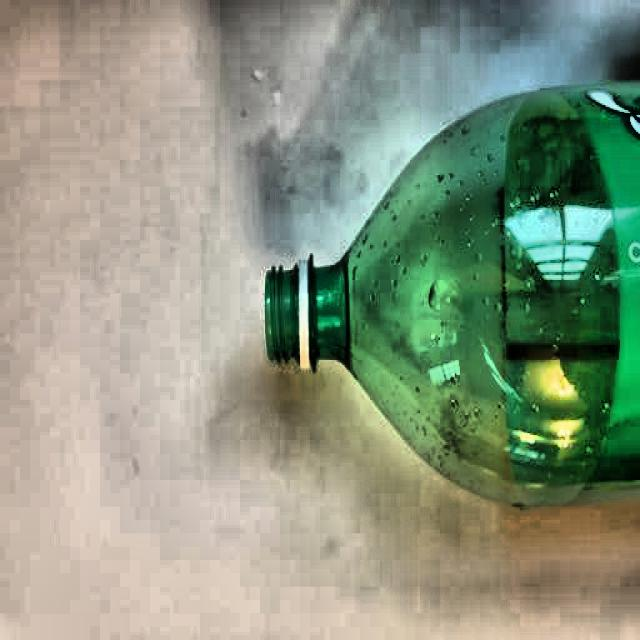plastic: (262, 82, 640, 501)
